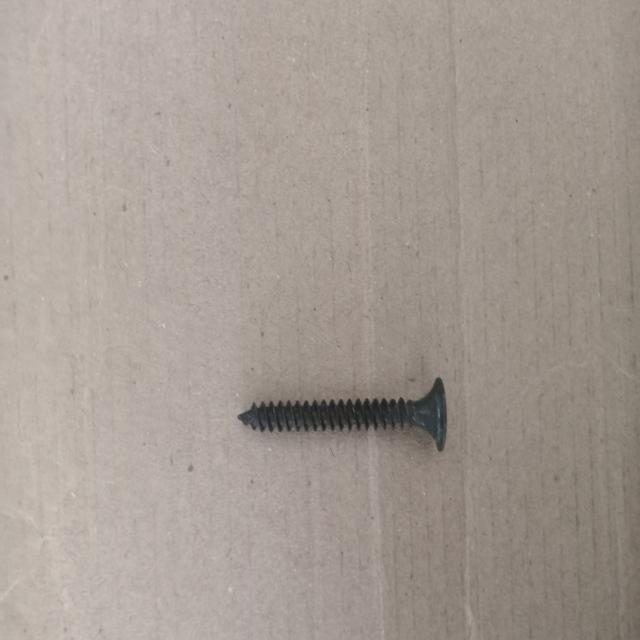screw: (237, 375, 448, 454)
